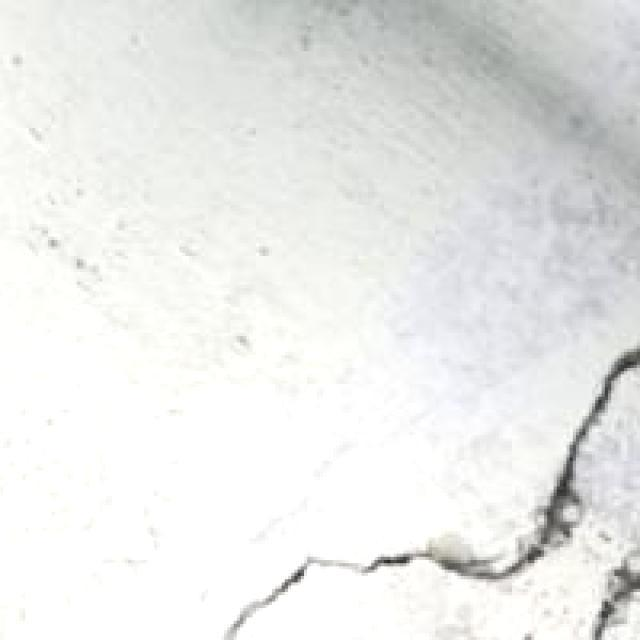crack: (198, 324, 640, 640)
